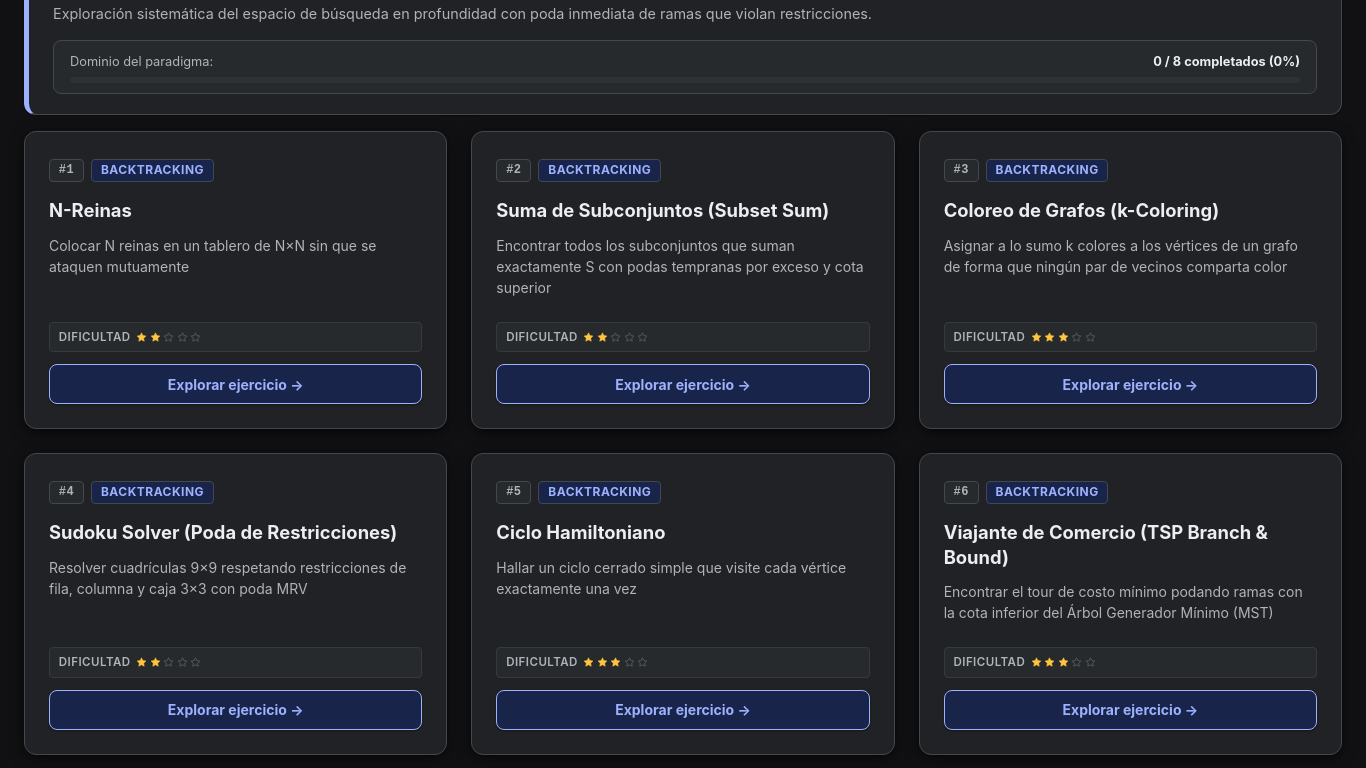
Test: Phase D: Browser / User Journey Integration Verification (15 Core Flows) › Flow 6: Understand phase unlocks via skip modal and displays canonical trace visualizer
The width and height of the screenshot is (1366, 768).
(page scrolled)
Click the button with class "btn-open-exercise" below "N-Reinas". click: (236, 384)
box: left=49, top=364, right=422, bottom=404
(page scrolled)
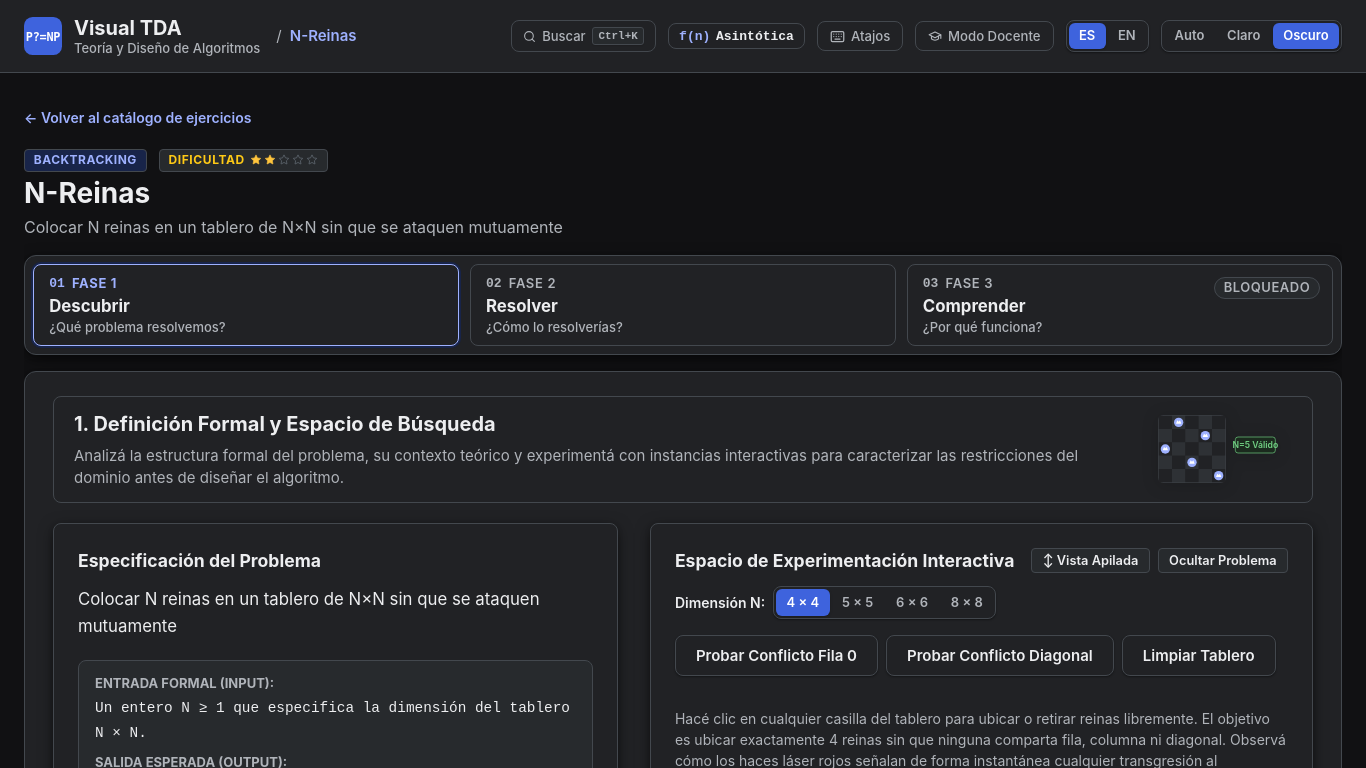
Click the tab "02 Fase 2 Resolver ¿Cómo lo resolverías?". click: (532, 283)
box: left=470, top=264, right=896, bottom=346
(page scrolled)
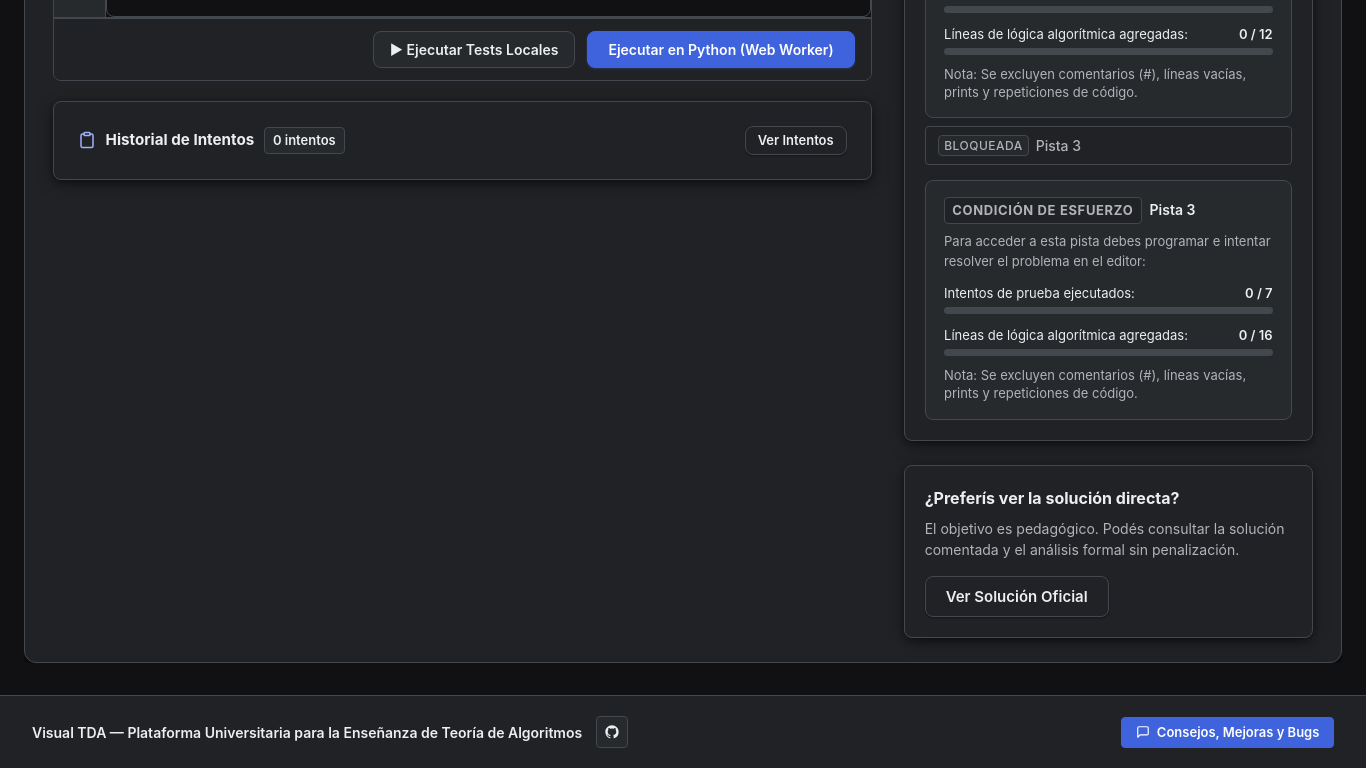
expect the button "Ver Solución Oficial" is shown: met
Click the button "Ver Solución Oficial". click: (1017, 596)
box: left=925, top=576, right=1109, bottom=617
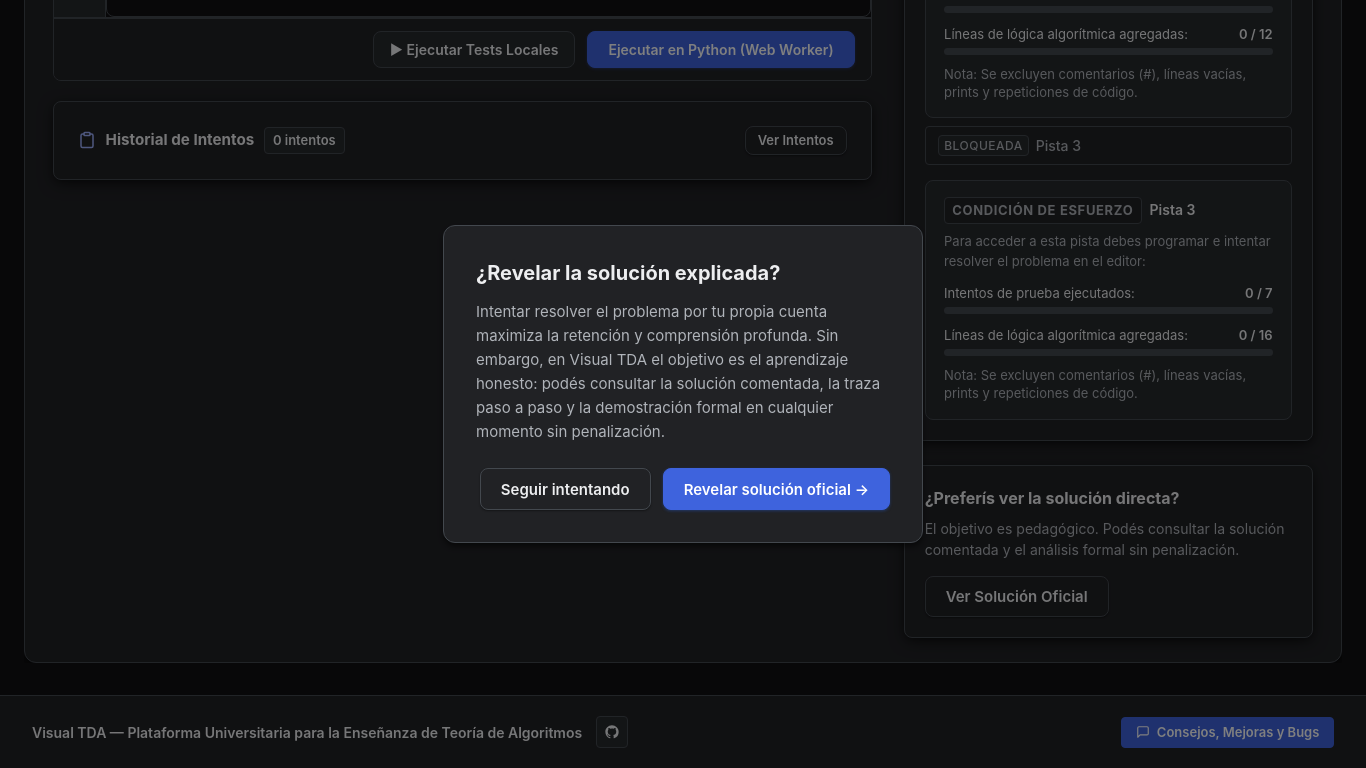
expect the element with class "modal-card" is shown: met, box left=443, top=225, right=923, bottom=543
expect the button "Revelar solución oficial →" is shown: met
Click the button "Revelar solución oficial →". click: (776, 489)
box: left=663, top=468, right=890, bottom=510
(page scrolled)
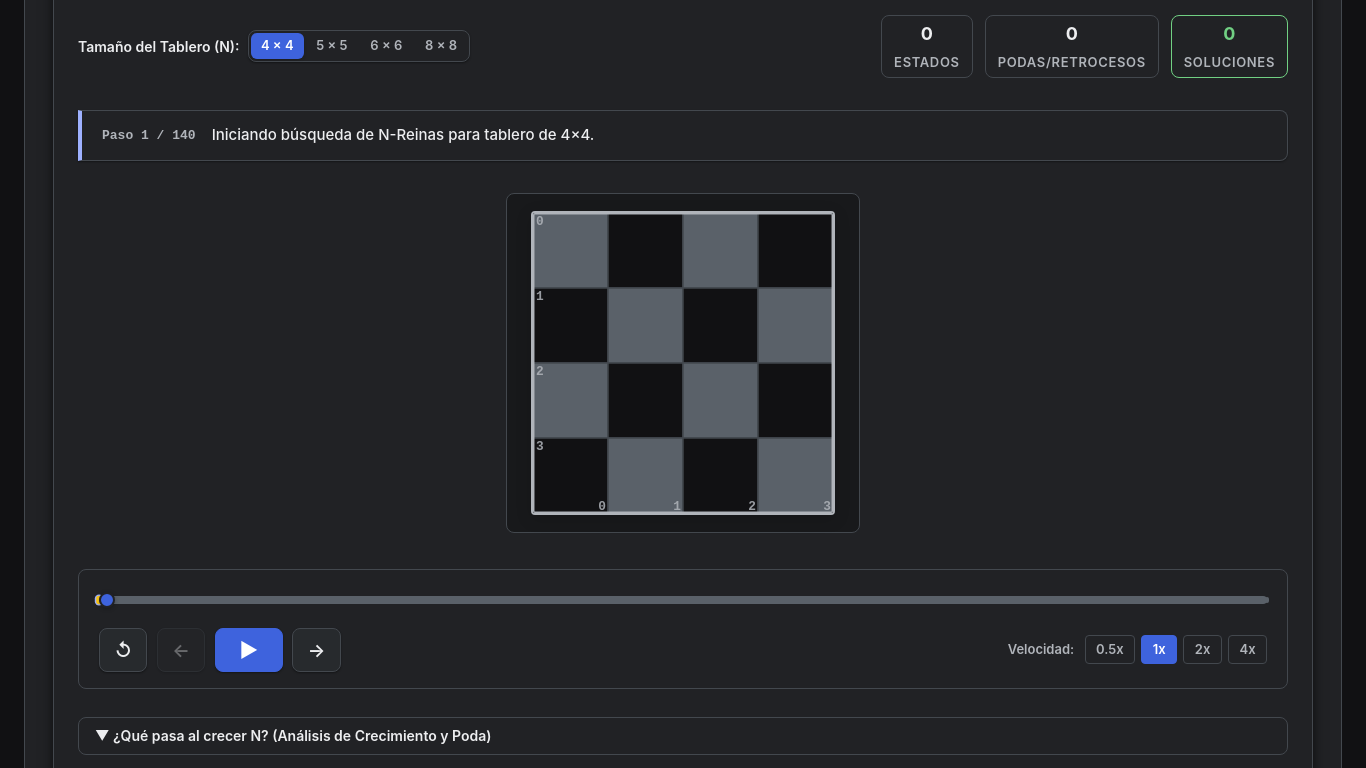
expect the element with class "nqueens-visualizer-card" is shown: met
